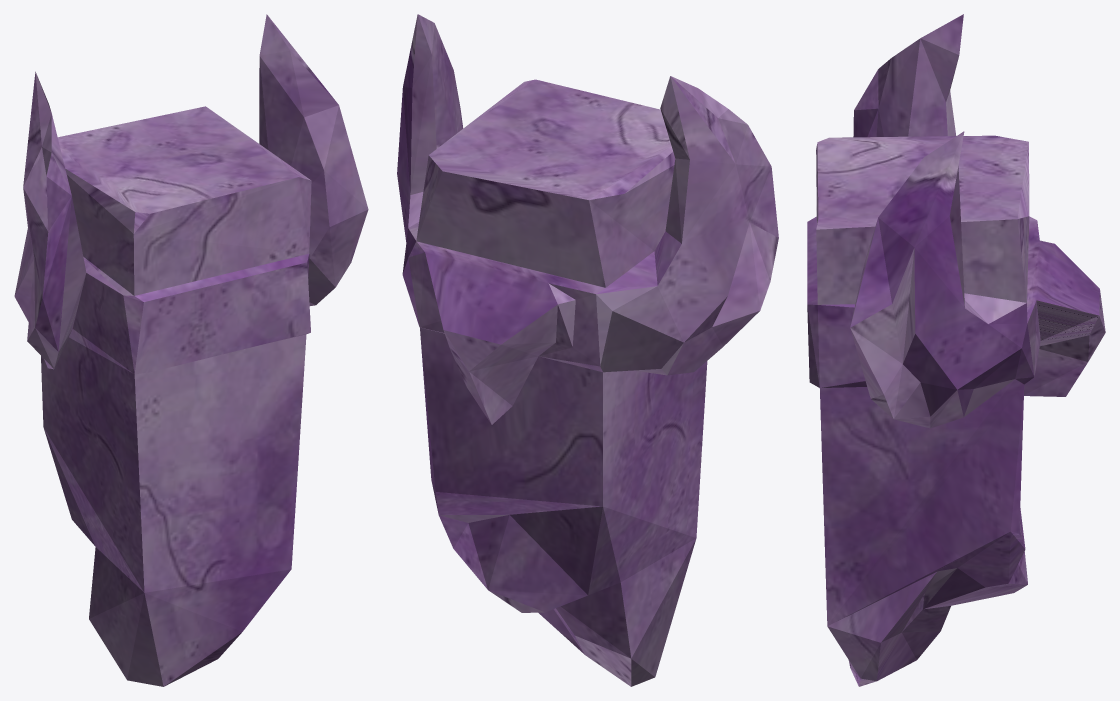
File: entity37536.gltf
The picture shows the model from 3 angles, left to right: view 1: azimuth 30°, elevation 25°; view 2: azimuth 150°, elevation 25°; view 3: azimuth 270°, elevation 25°; orthographic projection. The views are drawn at different scales.
Visible parts, largest first — view 1: node_Str_Ruins_01; view 2: node_Str_Ruins_01; view 3: node_Str_Ruins_01.
Part boxes in pixels (x1,y1,x2,y2): node_Str_Ruins_01: (14,14,368,686); node_Str_Ruins_01: (397,14,778,686); node_Str_Ruins_01: (807,14,1105,686).
Size of what is drawn, in the model's own units: 2.13 by 3.73 by 1.63.
